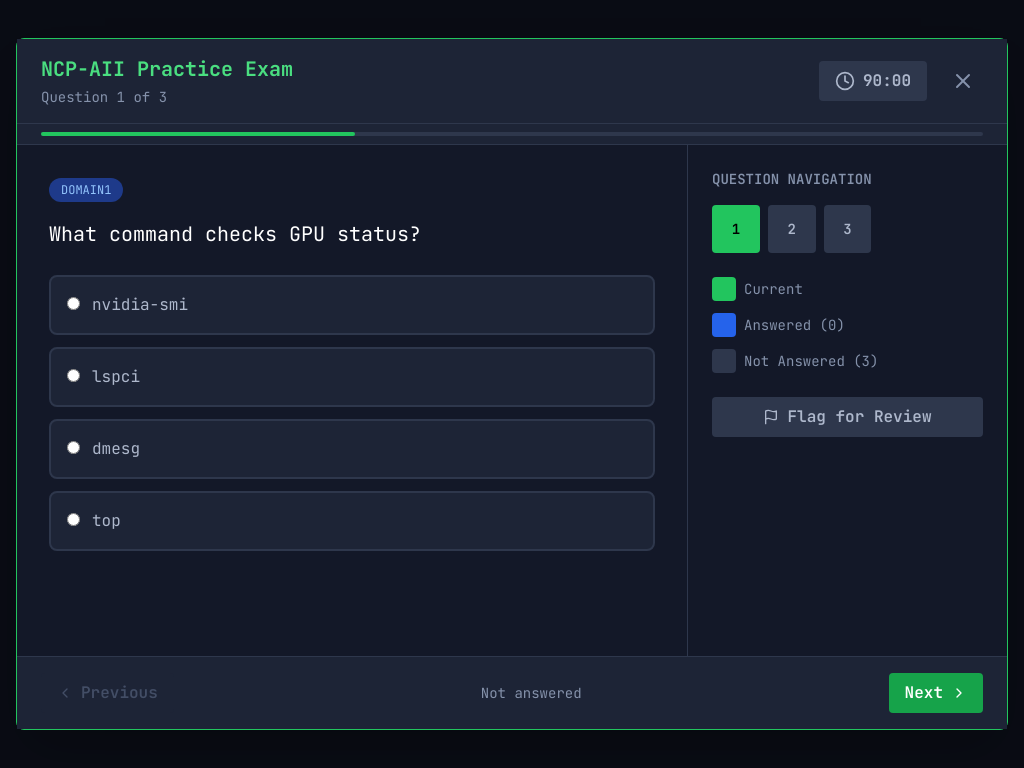
Scenario: ExamWorkspace › navigates back when Previous is clicked
Click the button "Next". click: click(936, 693)
box: [889,673,983,713]
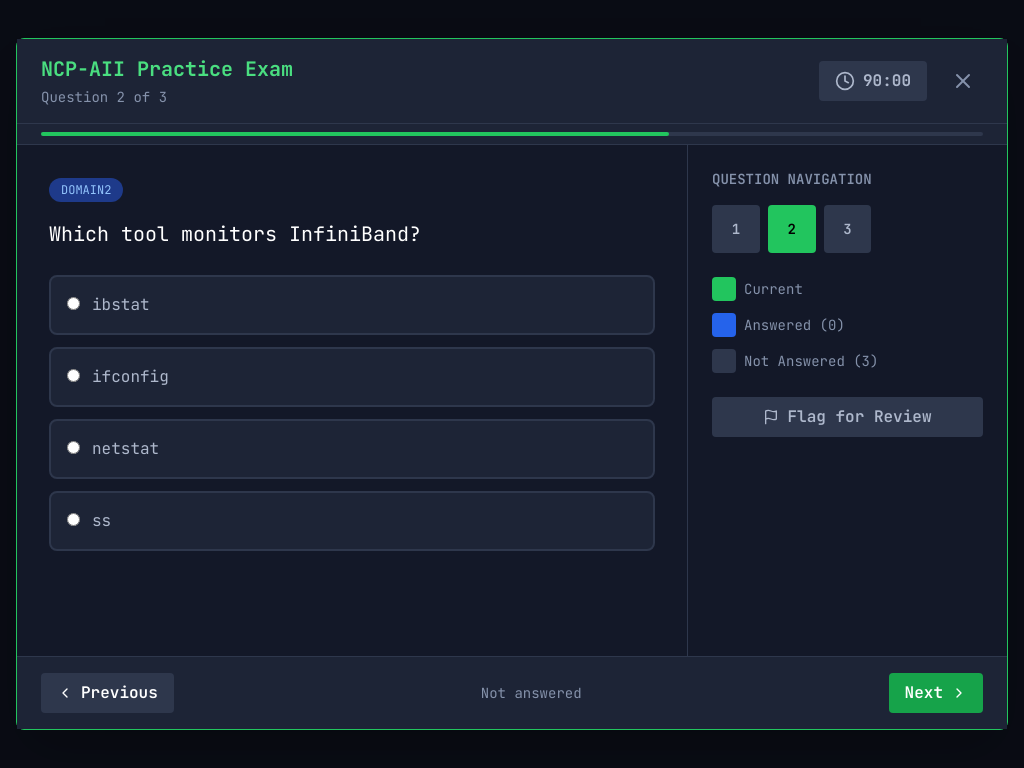
Expected: the text "Question 2 of 3" is shown, [41,88,167,106]
Click the button "Previous". click: click(107, 693)
box: [41,673,174,713]
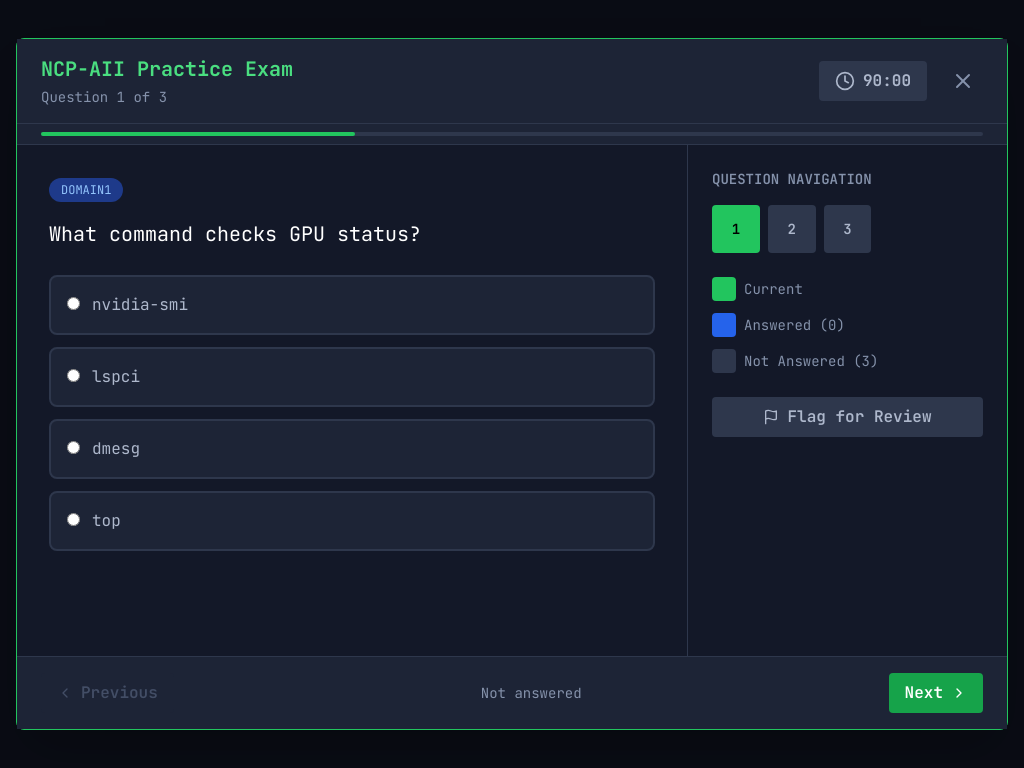
Expected: the text "Question 1 of 3" is shown, [41,88,167,106]
